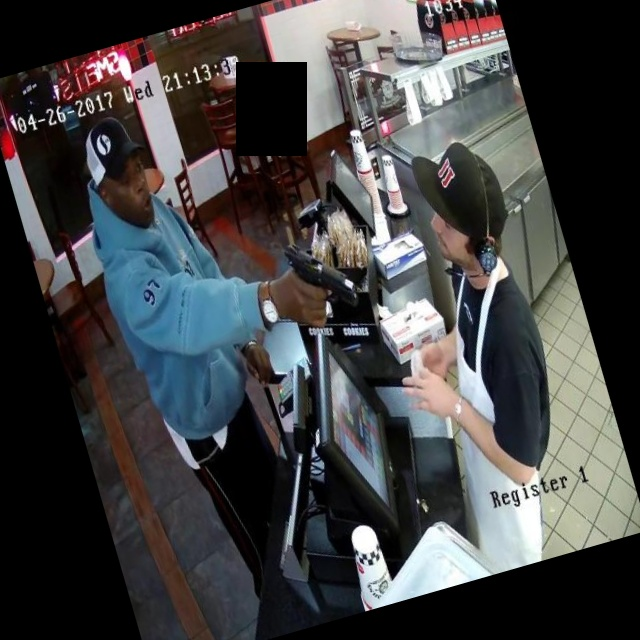gun: (265, 220, 372, 332)
